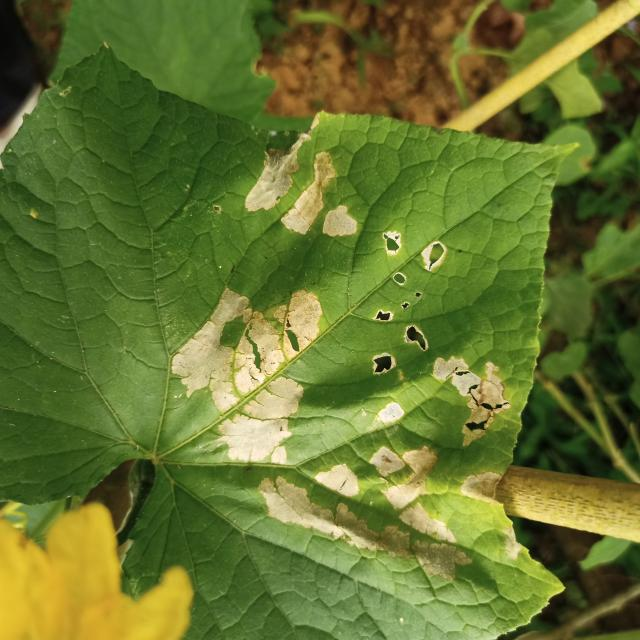disease_cucumber: (170, 134, 513, 582)
